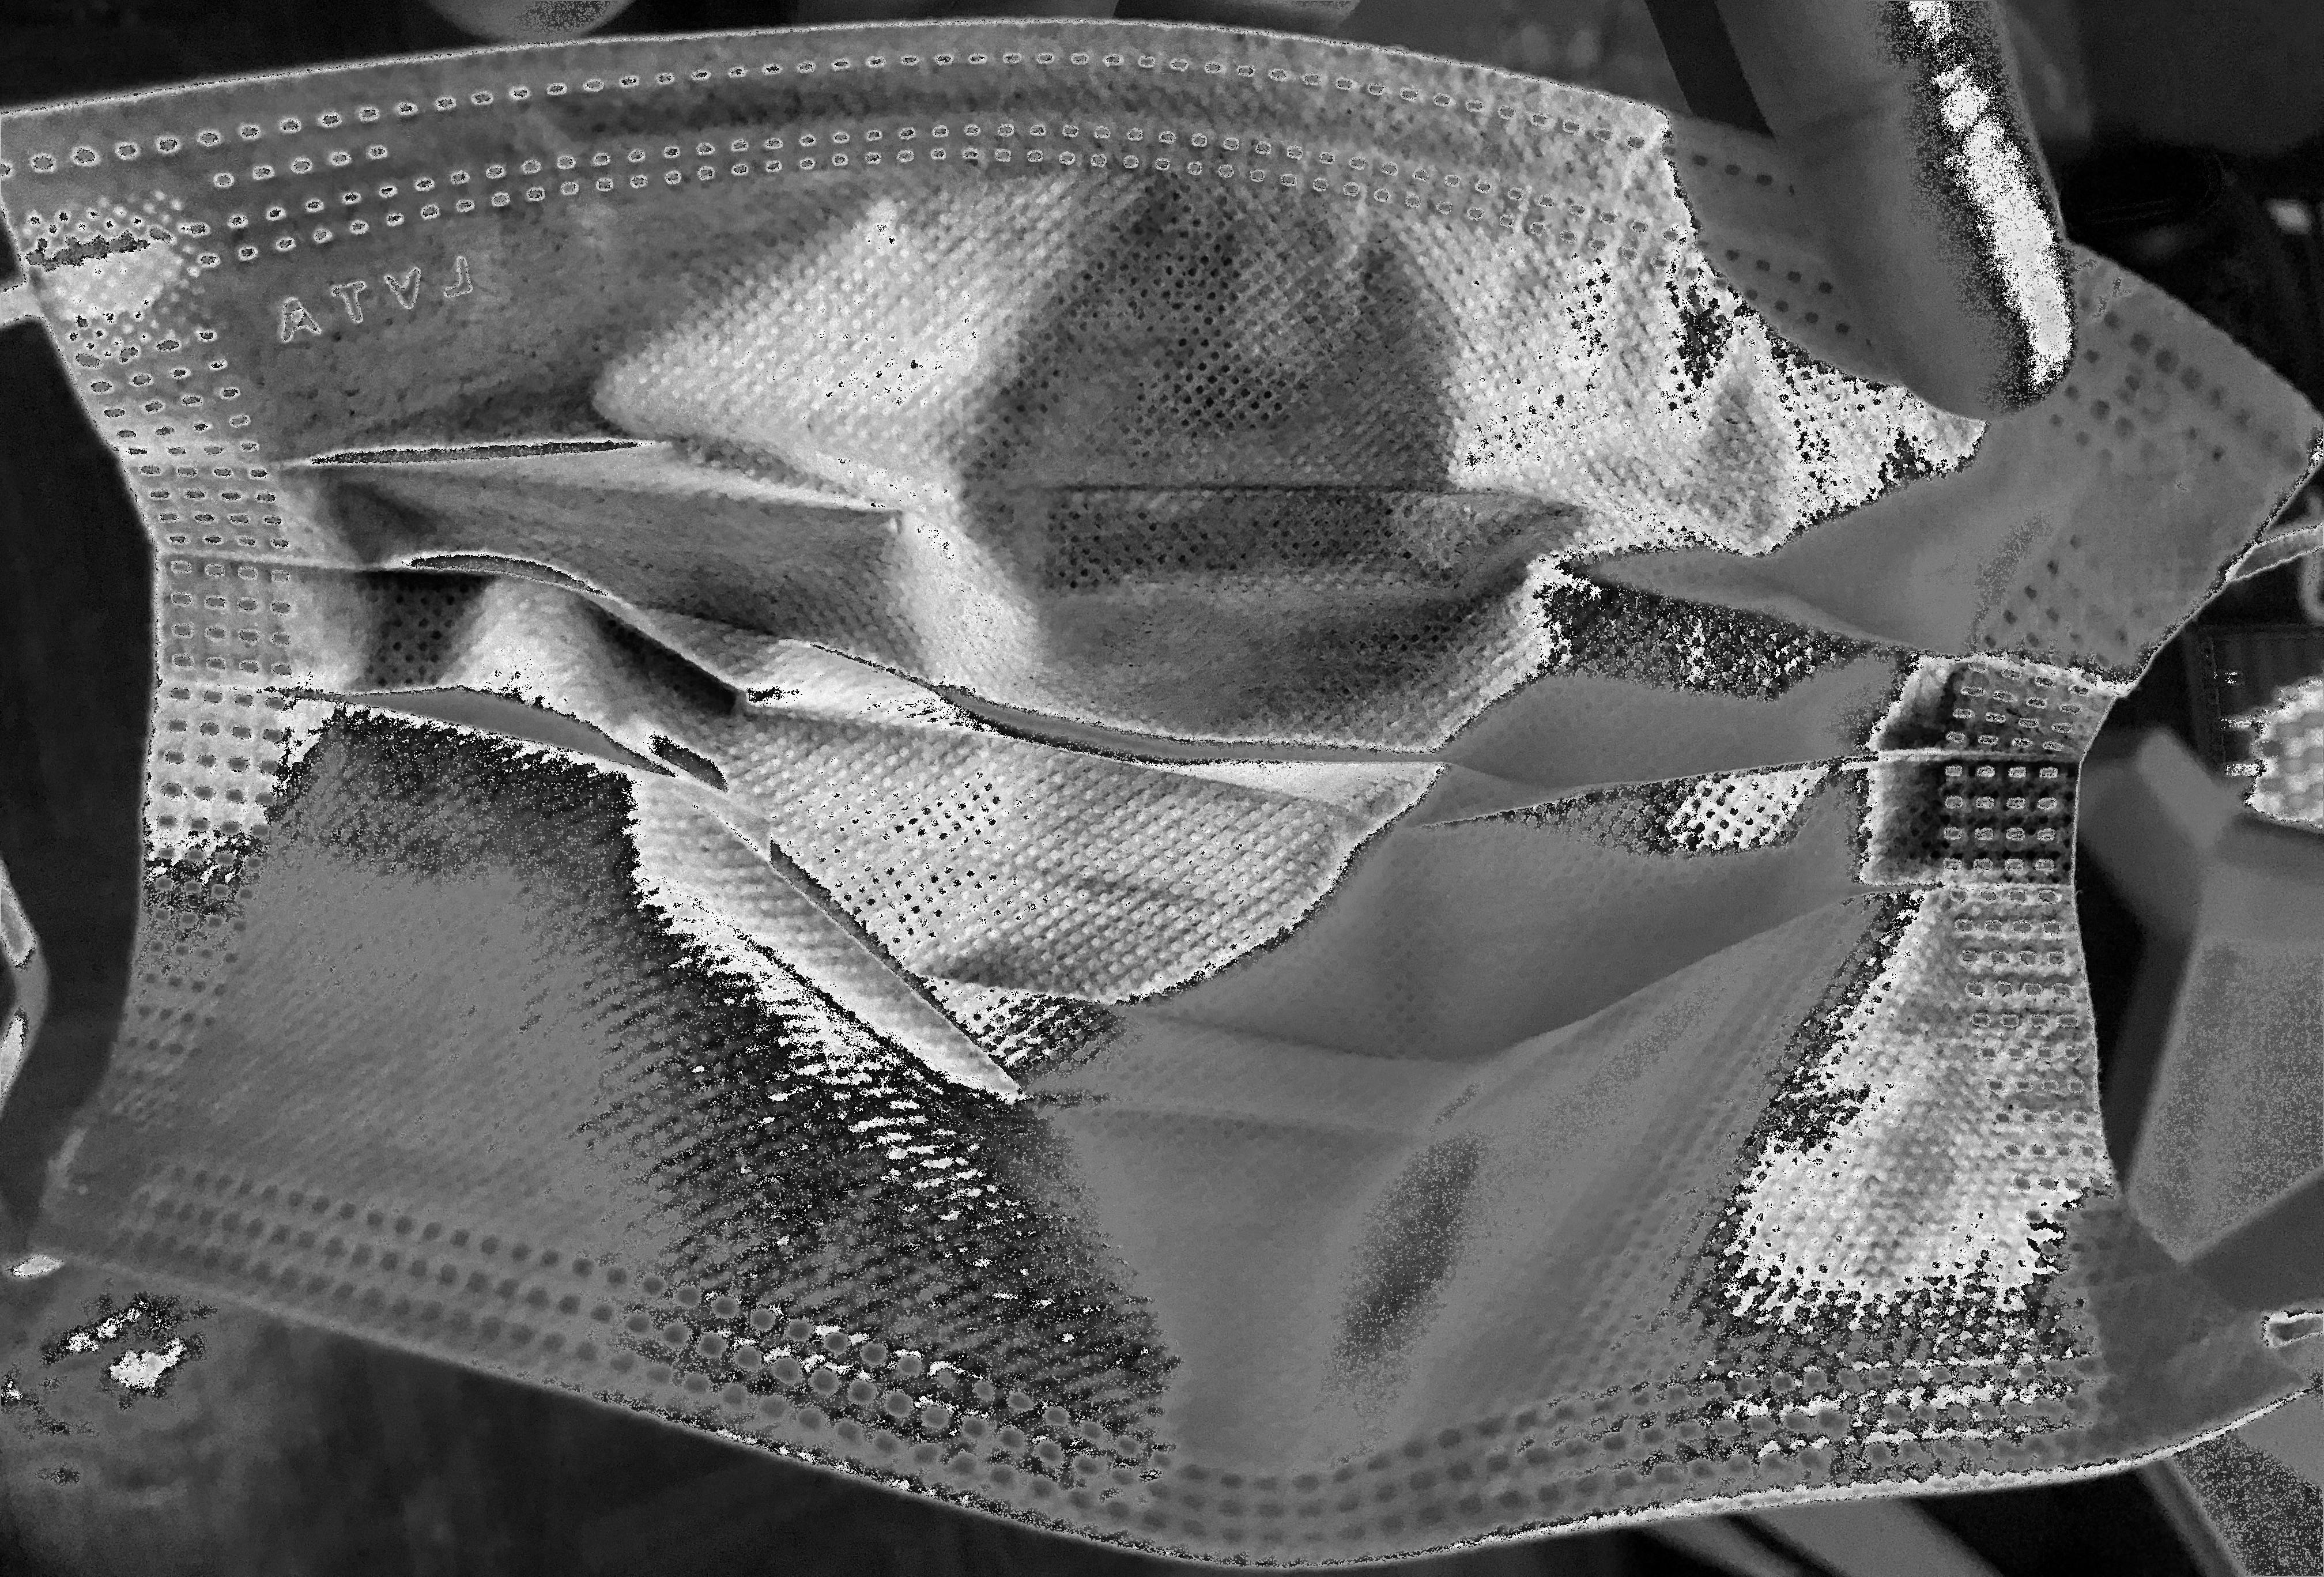High GSM: (582, 570, 1334, 1074), (413, 266, 1217, 686), (1258, 366, 1842, 748)
Undefined Area: (1738, 0, 2083, 405), (11, 1174, 320, 1573)
